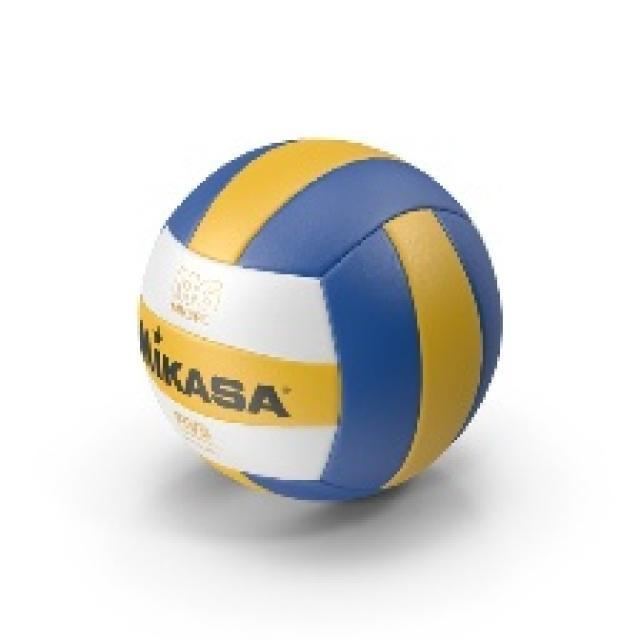volleyball: (138, 138, 502, 501)
